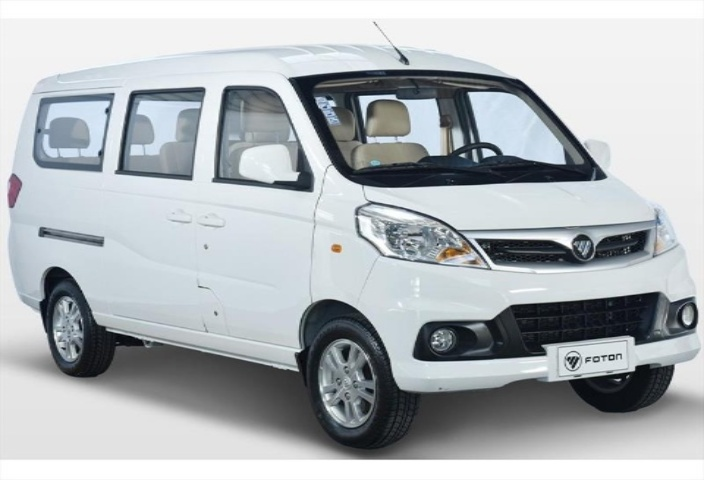van: (1, 44, 704, 448)
